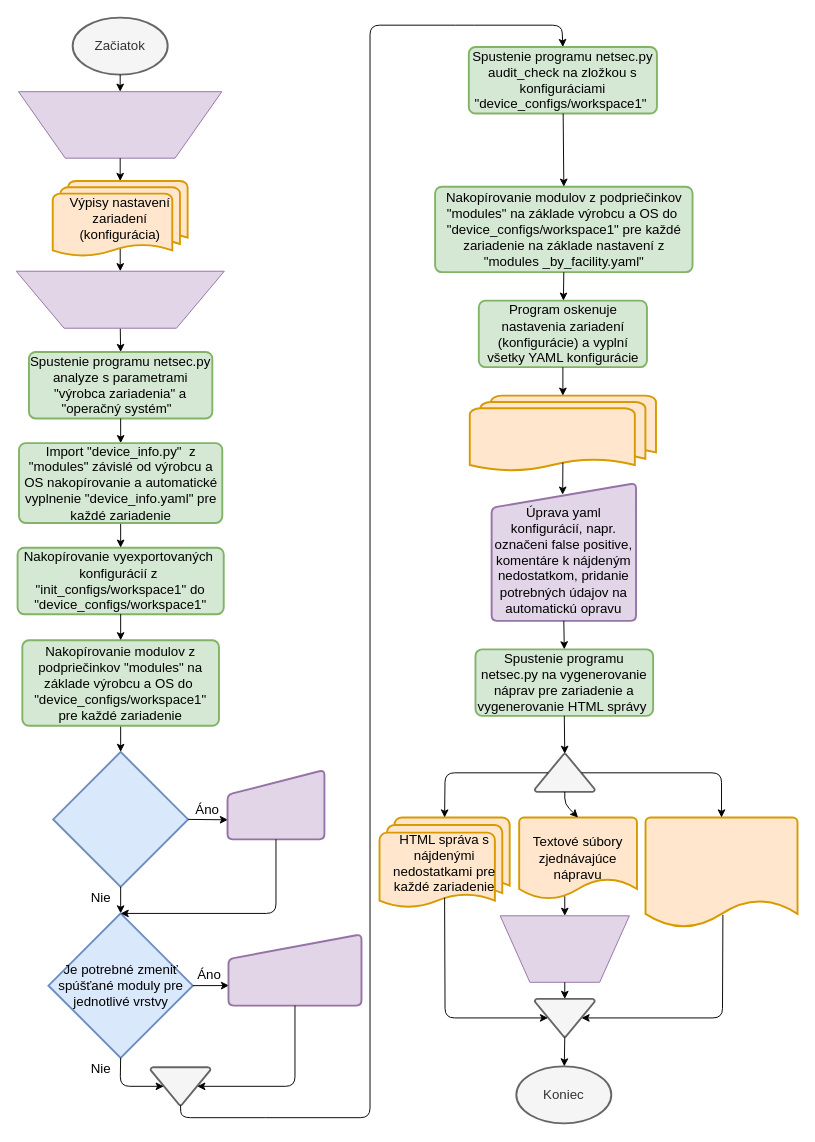
The diagram is 815 pixels wide and 1142 high, and some of its shapes have lost their labels. The centre of each missing label's shape, as x and y in pixels:
Aplikovanie konfigurácií na zariadeniach: point 564,948
Editácia "modules_ by_facility_layer.yaml": point 294,969
Je potrebné manuálne doplnenie súboru "device.yaml": point 120,818
Kumulatívna HTML správa zobrazujúca zoznam zariadení, ktorých sa problém týka: point 721,872
Príprava konfigurácií zariadení, exportovanie zo zariadení v textovej forme: point 120,124
Uloženie do priečinku "init_configs/workspace1": point 119,299
Vyplnenie potrebných polí v device.yaml: point 275,804
YAML súbory (moduly) s nájdenými nedostatkami pre každé zariadenie: point 562,433
